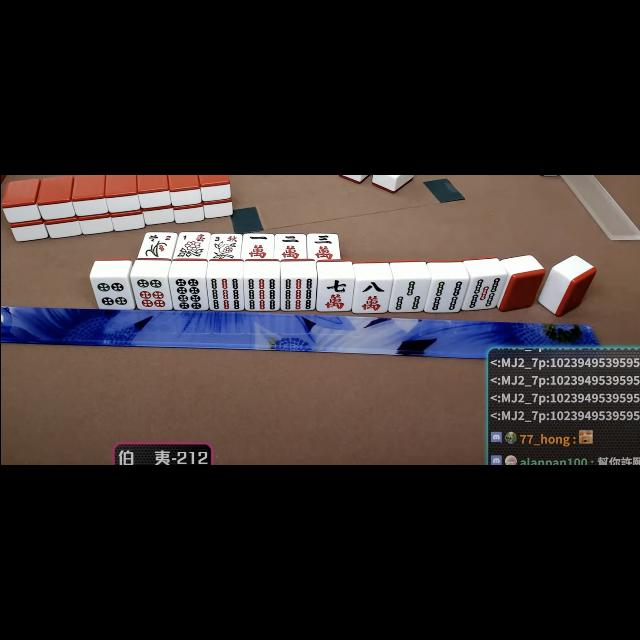b3: (392, 279, 424, 311)
b4: (428, 280, 462, 310)
b5: (466, 274, 499, 310)
b9: (281, 277, 315, 311), (208, 277, 242, 311), (244, 277, 278, 311)
c1: (242, 233, 274, 260)
c2: (274, 234, 306, 260)
c3: (307, 234, 338, 262)
c7: (319, 278, 351, 312)
c8: (355, 280, 387, 314)
d4: (91, 277, 129, 311)
d6: (134, 276, 166, 310)
d8: (170, 278, 203, 310)
f2: (141, 232, 175, 244)
s1: (174, 231, 210, 243)
s3: (210, 234, 242, 244)
